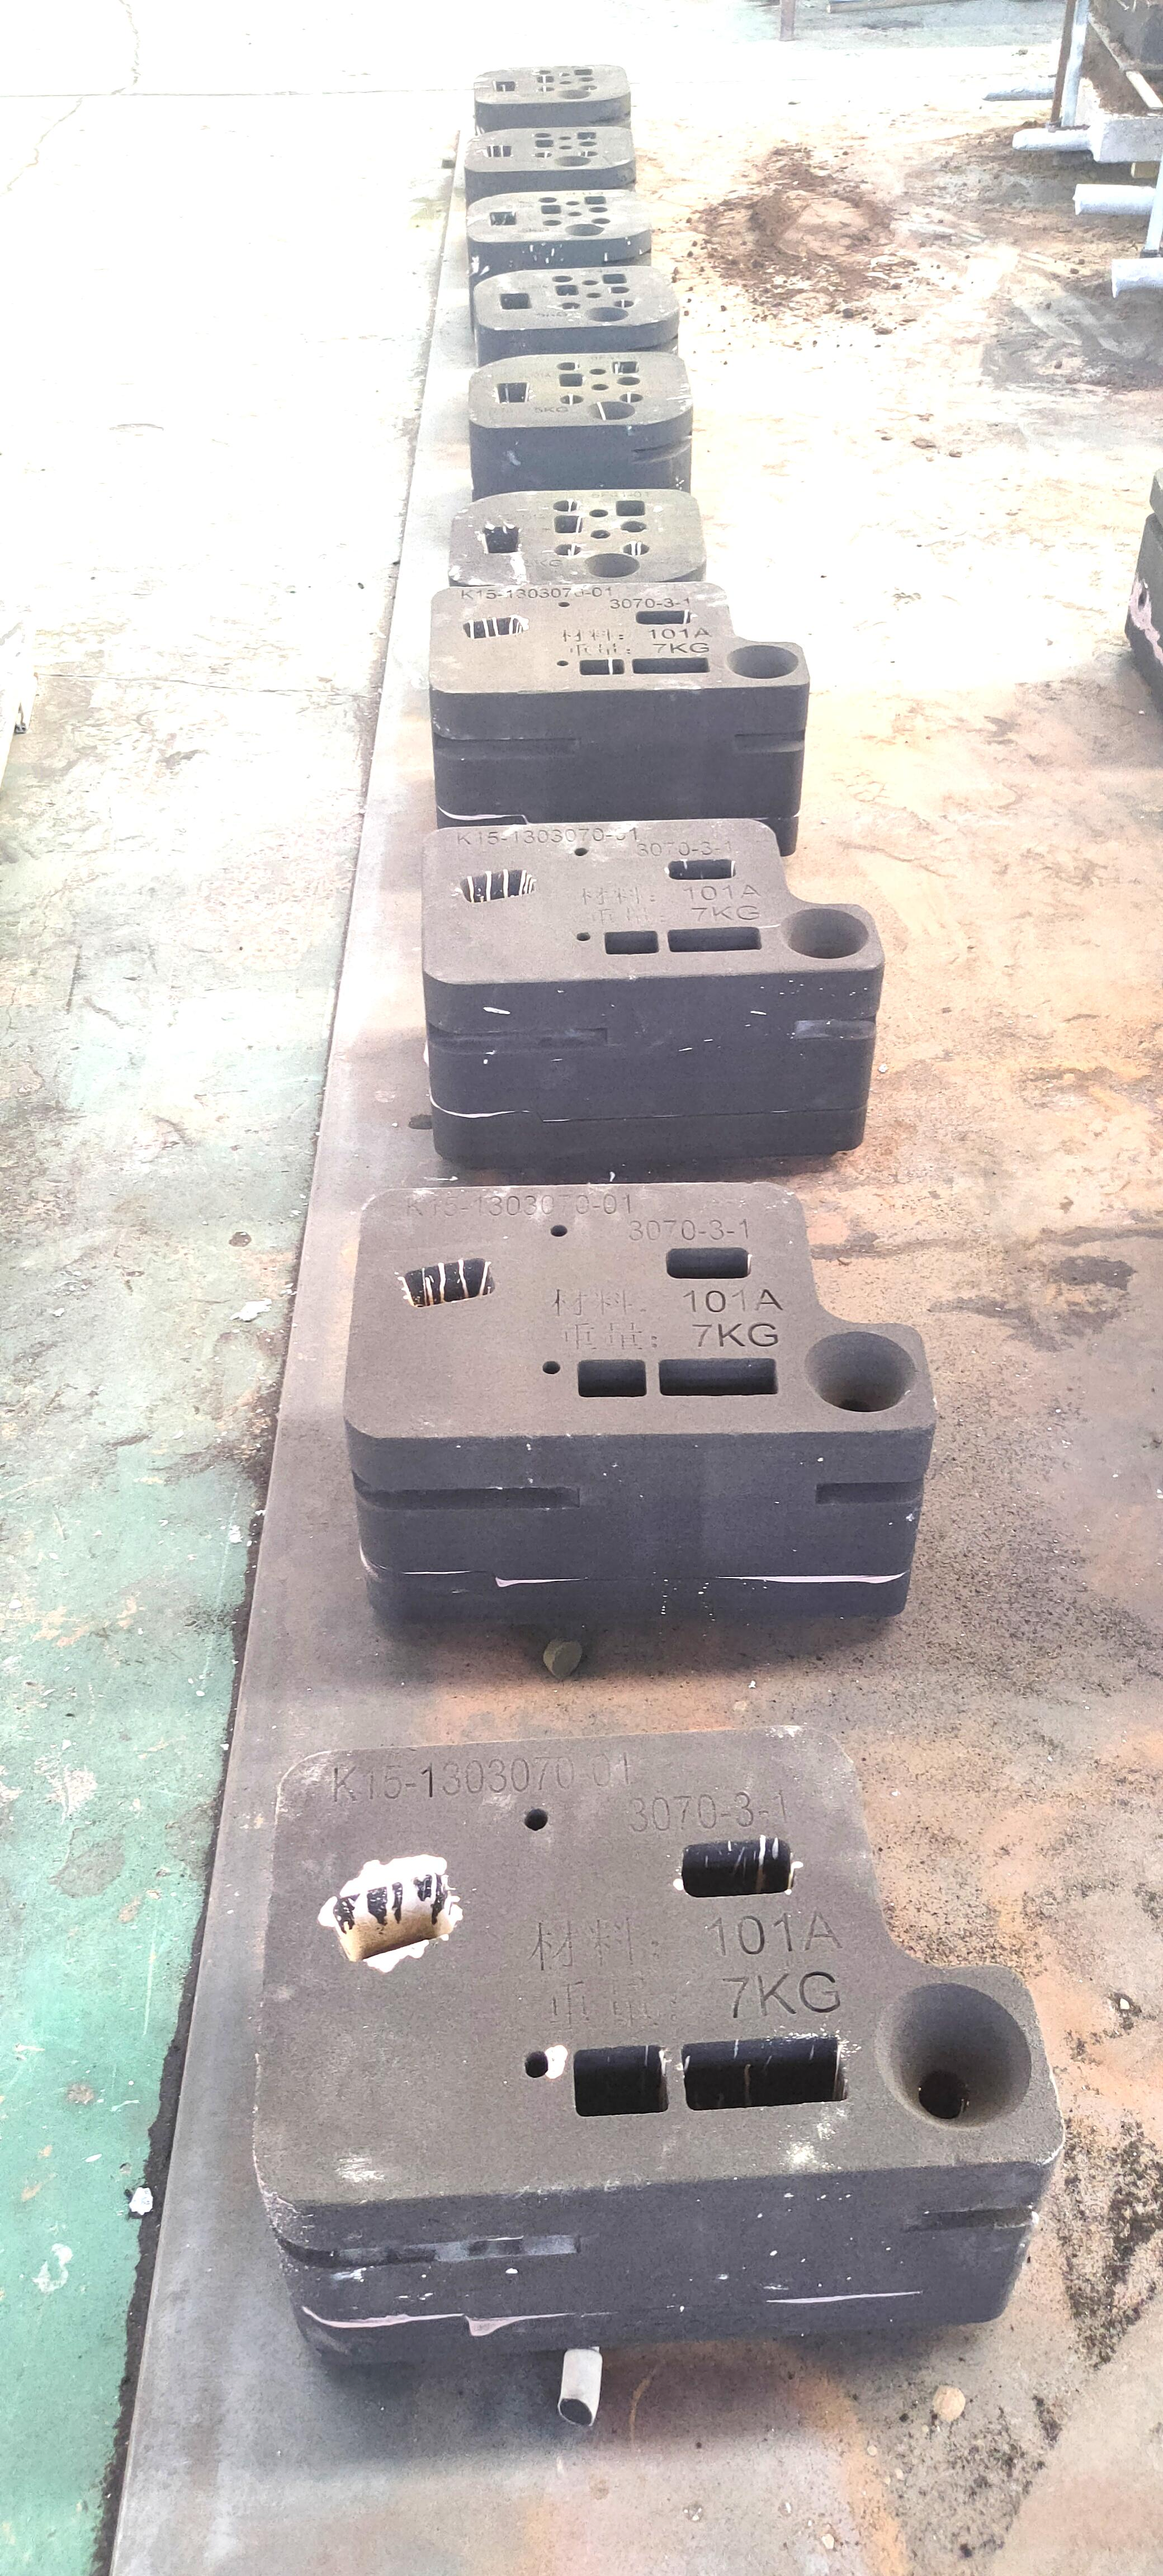pouring hole: (869, 1983, 1035, 2131), (800, 1332, 920, 1414), (779, 907, 869, 959), (724, 644, 800, 678), (583, 552, 641, 578), (585, 401, 636, 421), (583, 306, 629, 322), (563, 223, 604, 237), (552, 154, 591, 168), (557, 89, 591, 99)
